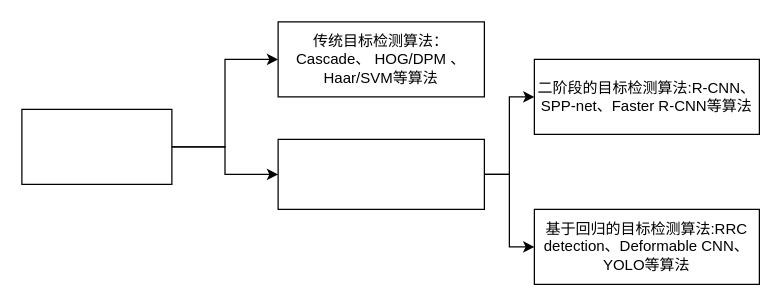
The diagram is 781 pixels wide and 306 high, and some of its shapes have lost their labels. Here are the shapes that lost their labels. From the top down, the centre of each, then its label:
At [96,146]: "目标检测算法".
At [380,173]: "深度学习目标检测算法".
